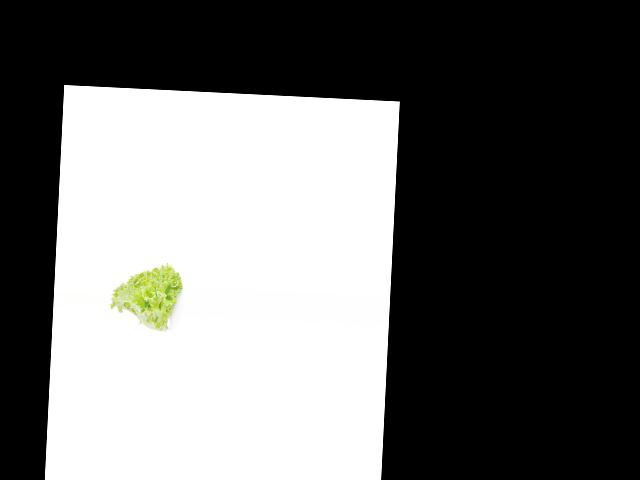lettuce: (106, 256, 183, 336)
